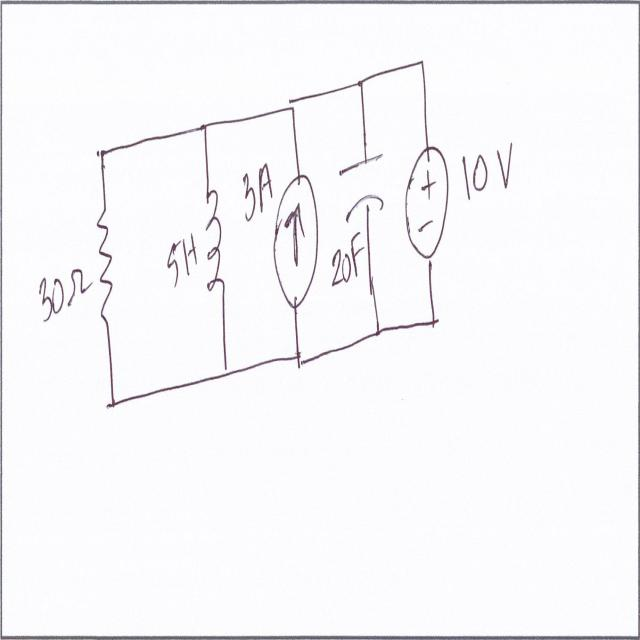capacitor: (335, 140, 391, 228)
current_source: (271, 162, 321, 314)
inductor: (203, 187, 232, 304)
resistor: (94, 202, 121, 329)
voltage_source: (404, 145, 454, 269)
